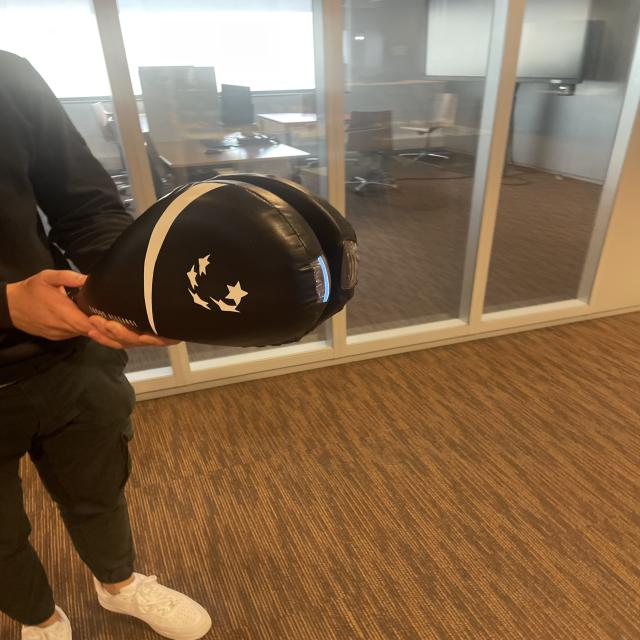paddle: (95, 172, 357, 344)
trigger: (314, 254, 334, 302)
